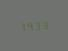four: (26, 20, 33, 31)
seven: (18, 21, 25, 31)
three: (34, 19, 41, 30), (42, 19, 49, 29)
